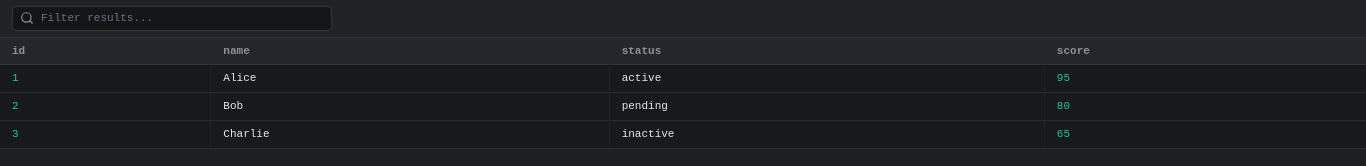
Test: EditableDataGrid component › Quick client-side filter bar › shows placeholder message when no rows match the filter
The image size is (1366, 166).
Type "nonexistent_query" into the field with test id "grid-filter-input" at coordinates (172, 18), box x1=12 y1=6 x2=332 y2=31
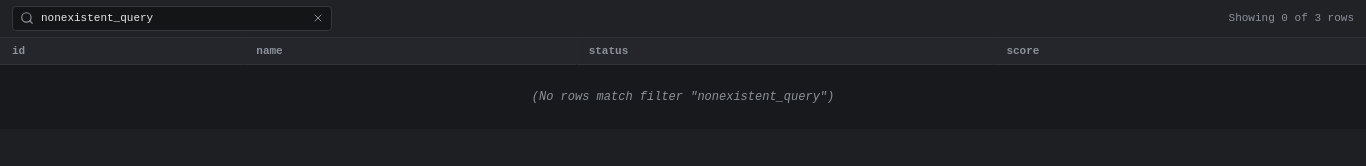
Result: the text "(No rows match filter \"nonexistent_query\")" is shown at x1=0 y1=65 x2=1365 y2=129
